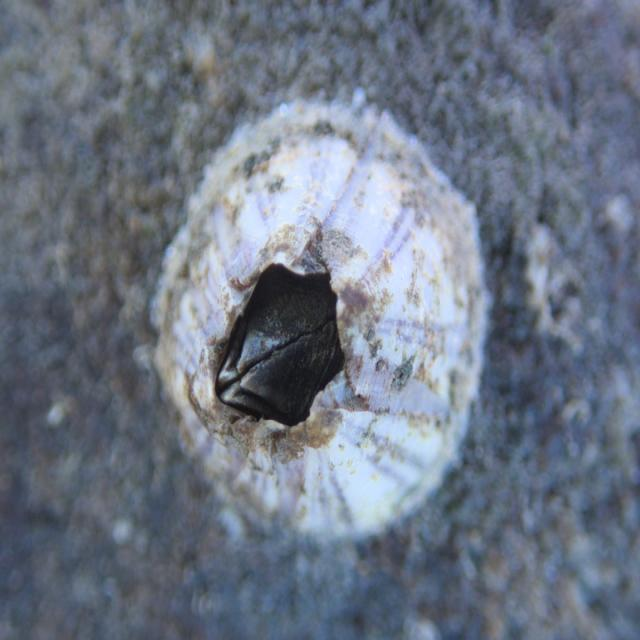barnacles: (148, 86, 491, 554)
